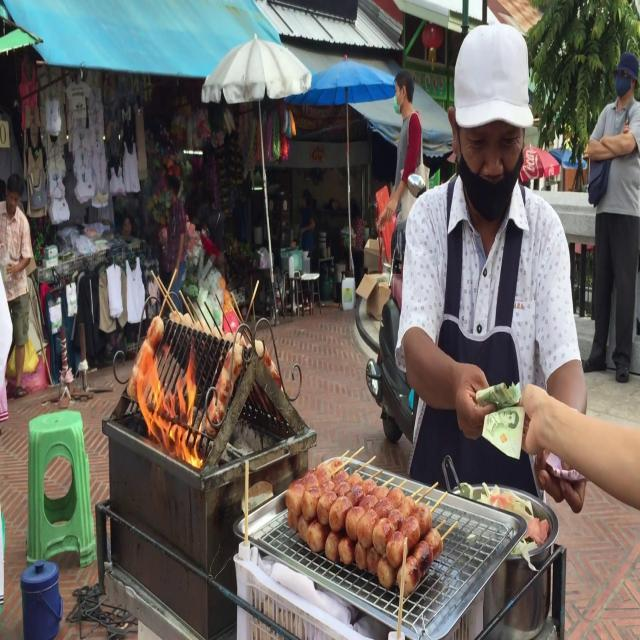Fire: (129, 324, 203, 470)
